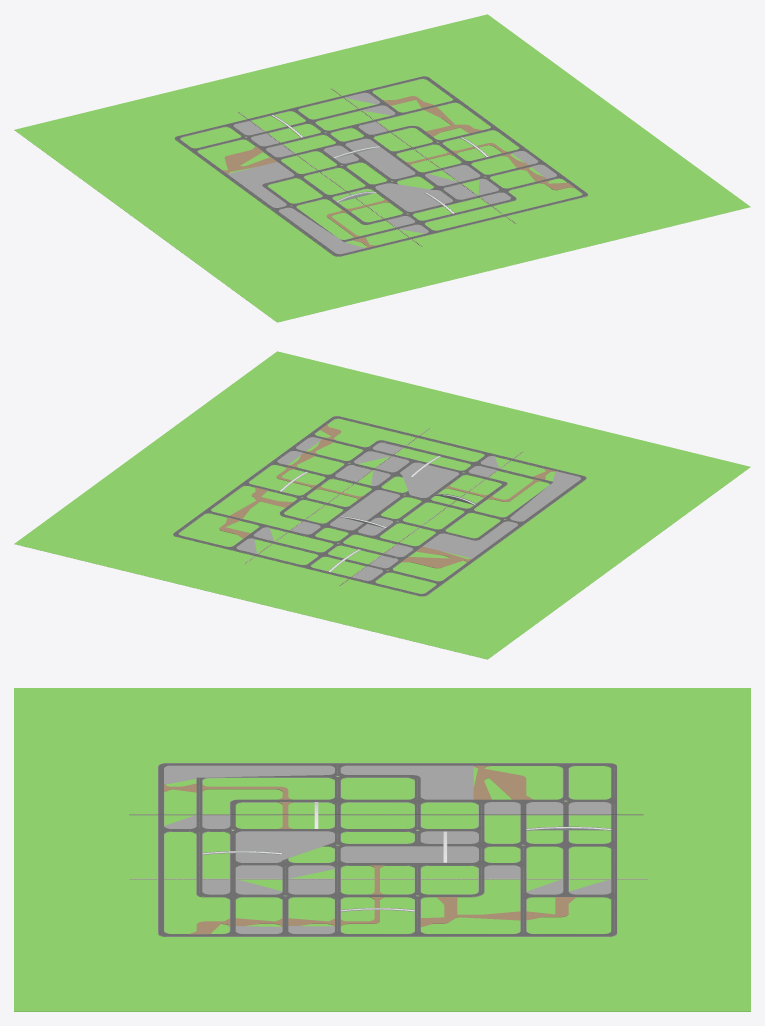
Rendered from colour_mert_race_it_17.06.2022.fbx.
The picture shows the model from 3 angles, top to bottom: view 1: azimuth 30°, elevation 25°; view 2: azimuth 150°, elevation 25°; view 3: azimuth 270°, elevation 25°; orthographic projection. The views are drawn at different scales.
Parts seen in each view (by area): view 1: yol_zemin17.06.2022, yol17.06.2022; view 2: yol_zemin17.06.2022, yol17.06.2022; view 3: yol_zemin17.06.2022, yol17.06.2022.
Part boxes in pixels (x1,y1,x2,y2): yol_zemin17.06.2022: [14, 14, 750, 322]; yol17.06.2022: [174, 76, 588, 256]; yol_zemin17.06.2022: [14, 351, 750, 659]; yol17.06.2022: [173, 416, 586, 596]; yol_zemin17.06.2022: [14, 688, 750, 1011]; yol17.06.2022: [129, 763, 647, 936].
Bounding box in the file's own units: 38622 × 294 × 37179.
